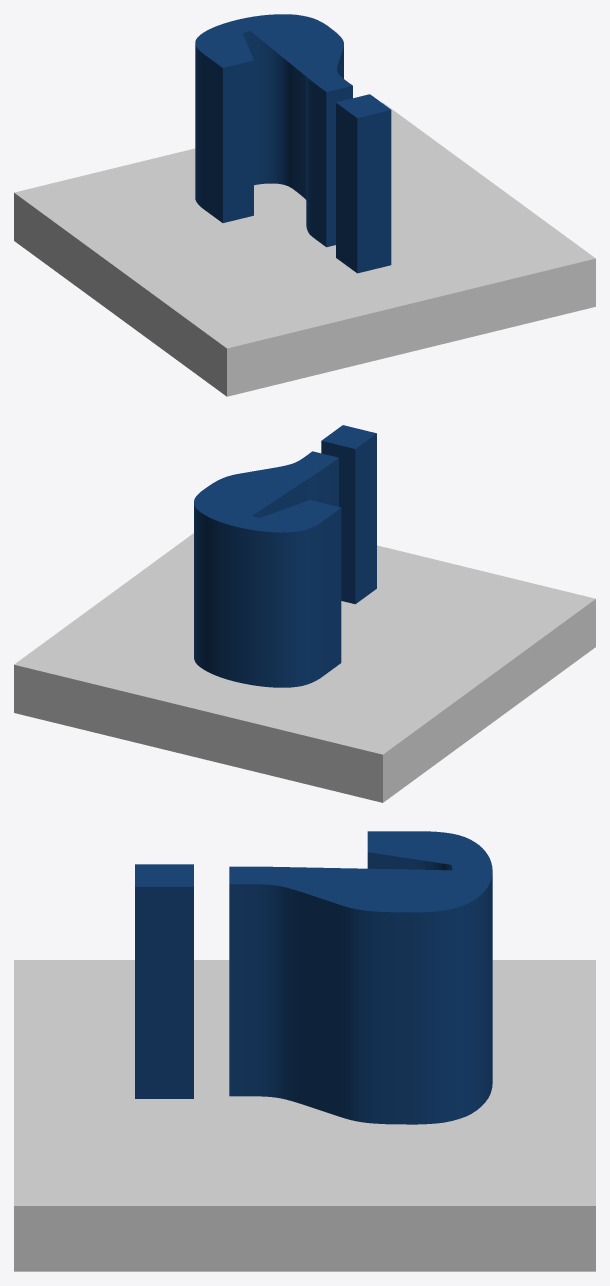
Rendered from tile_question.fbx.
3 renders of one model, top to bottom at view 1: azimuth 30°, elevation 25°; view 2: azimuth 150°, elevation 25°; view 3: azimuth 270°, elevation 25°, orthographic. The views are drawn at different scales.
Visible parts, largest first — view 1: polySurface4; view 2: polySurface4; view 3: polySurface4.
Boxes of the visible parts, x1,y1,x2,y2 form: polySurface4: [14, 14, 595, 396]; polySurface4: [14, 425, 595, 802]; polySurface4: [14, 831, 595, 1271].
Bounding box in the file's own units: 8 × 4.22 × 8.
